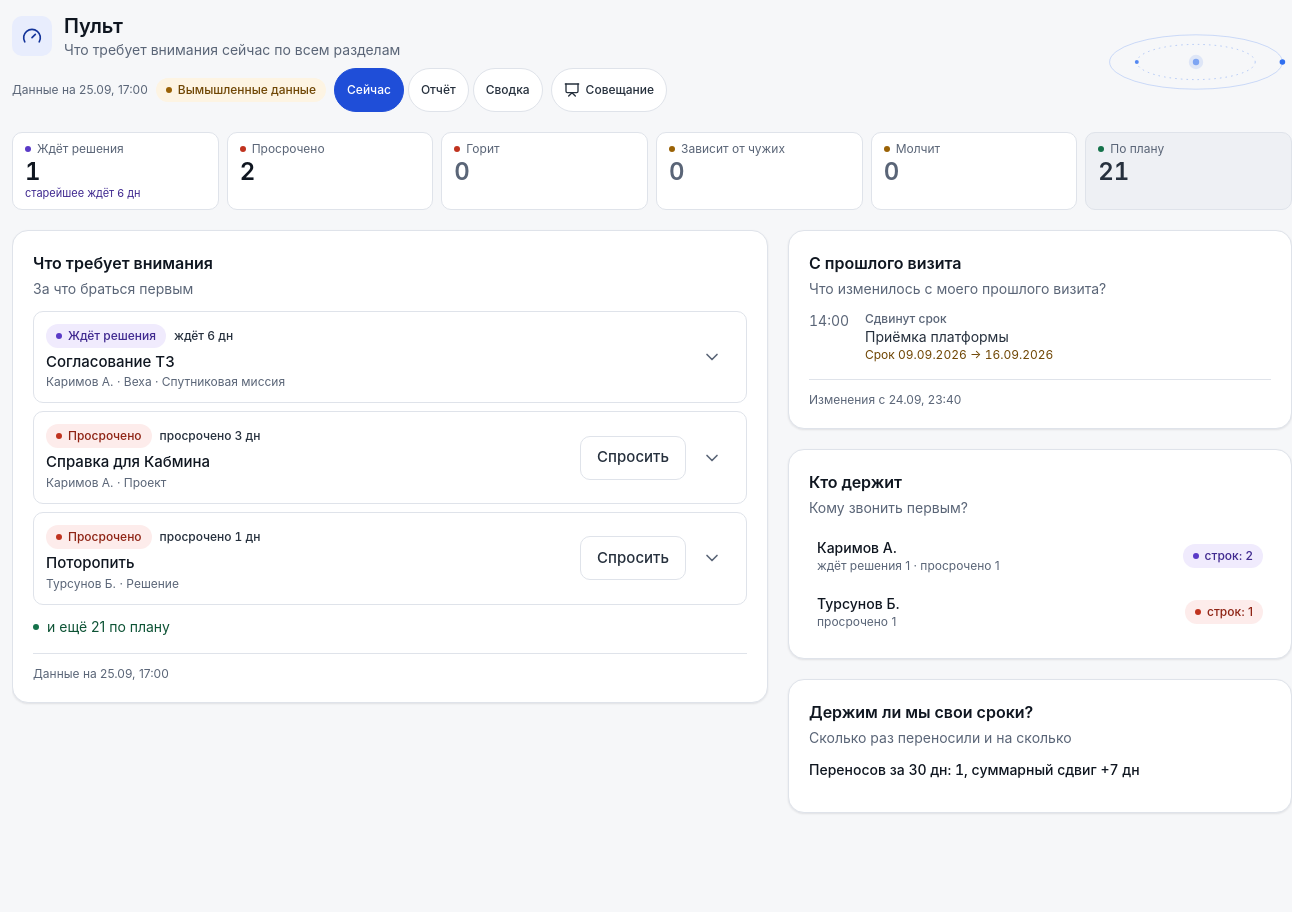
Scenario: Пульт › касание человека в «Кто держит» оставляет только его строки
Expected: the text "Согласование ТЗ" is shown, [46,352,174,371]
Click the button with aria-label "Показать строки: Турсунов Б.". click: [858, 603]
box: [809,586,1271,638]
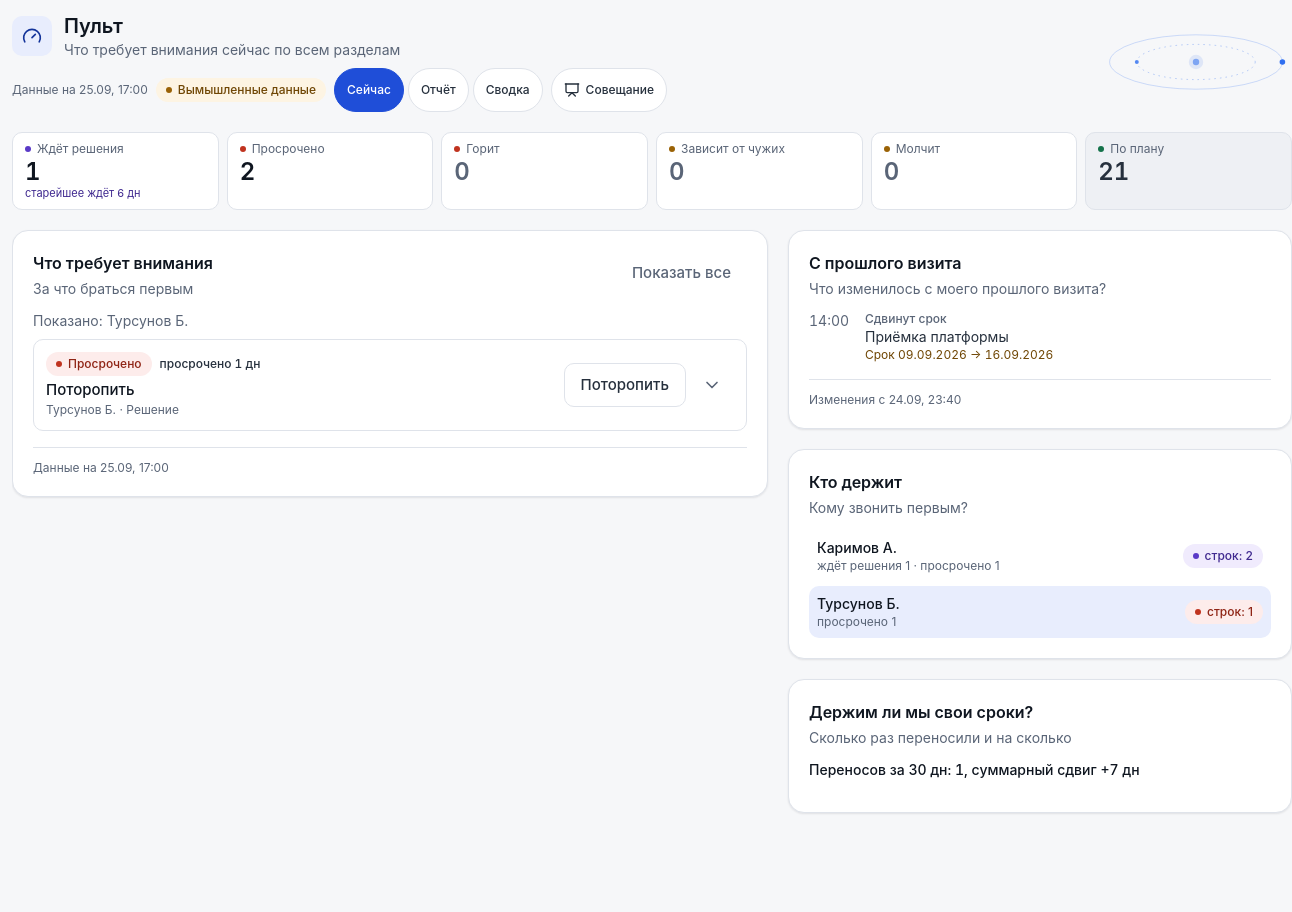
Result: the text "Показано: Турсунов Б." is shown at [33,312,188,329]
Result: the button "Согласование ТЗ" is gone
